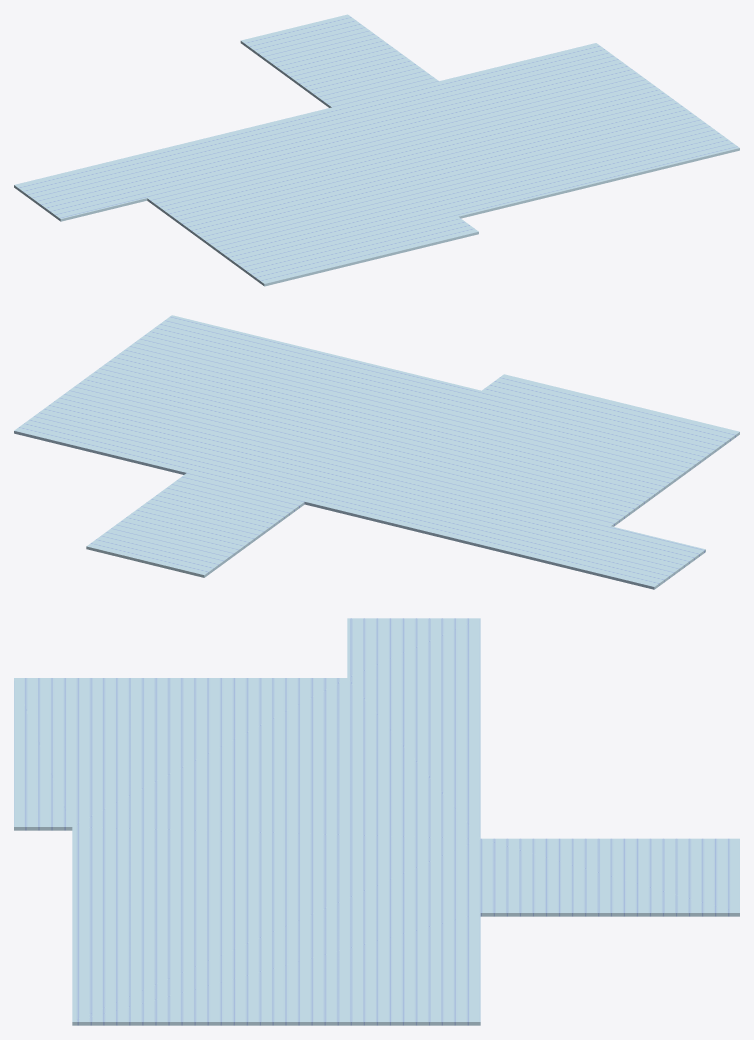
File: Floor_04.fbx
3 renders of one model, top to bottom at view 1: azimuth 30°, elevation 25°; view 2: azimuth 150°, elevation 25°; view 3: azimuth 270°, elevation 25°, orthographic. The views are drawn at different scales.
Parts seen in each view (by area): view 1: Floor_02; view 2: Floor_02; view 3: Floor_02.
Boxes of the visible parts, x1,y1,x2,y2 form: Floor_02: (14,14,739,286); Floor_02: (14,315,739,589); Floor_02: (14,618,739,1025).
Bounding box in the file's own units: 7206 × 29.9 × 5474.
Materials: 1 (1 with a texture image).
